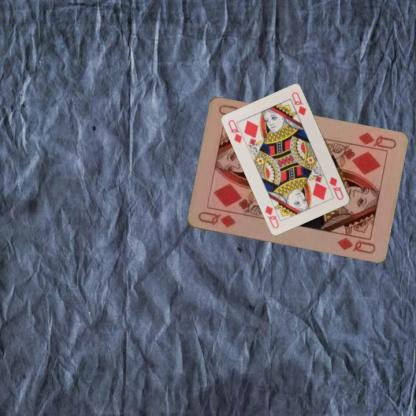Qd: (352, 130, 398, 153), (195, 209, 237, 230), (226, 118, 248, 144), (326, 174, 345, 202)
